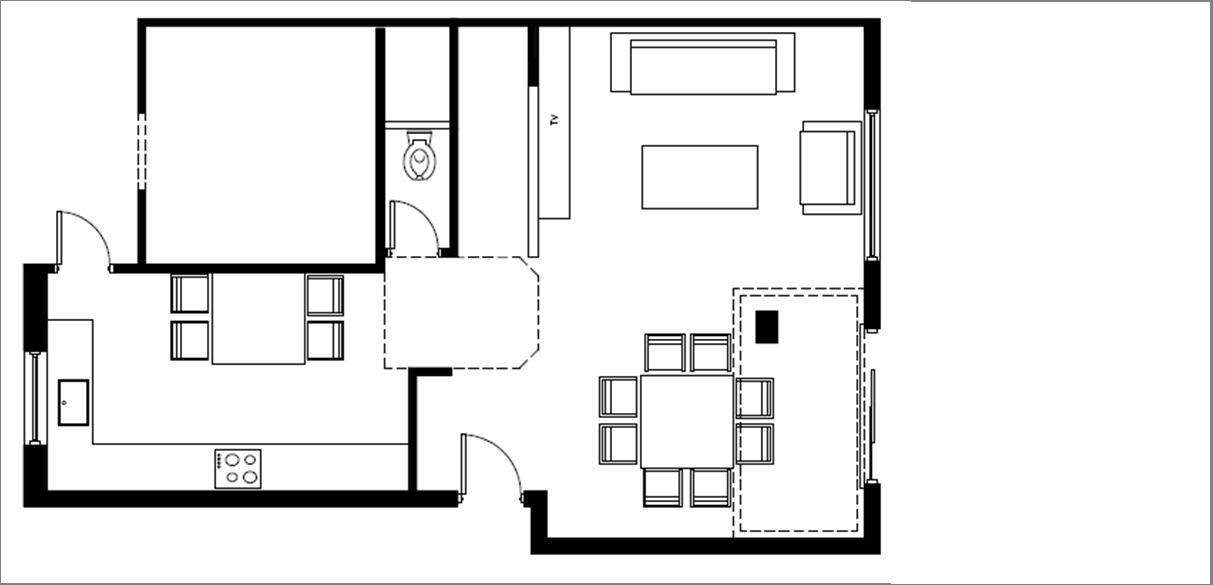room: (529, 18, 881, 555), (23, 264, 418, 508), (137, 19, 386, 274)
